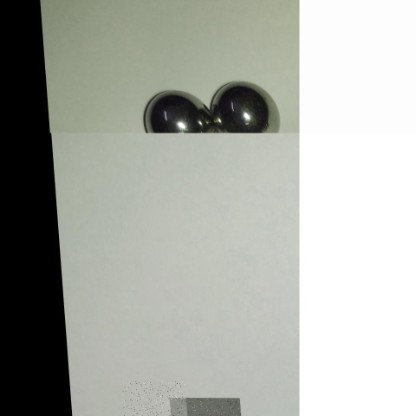ironball: (204, 78, 285, 131), (146, 86, 207, 135)
